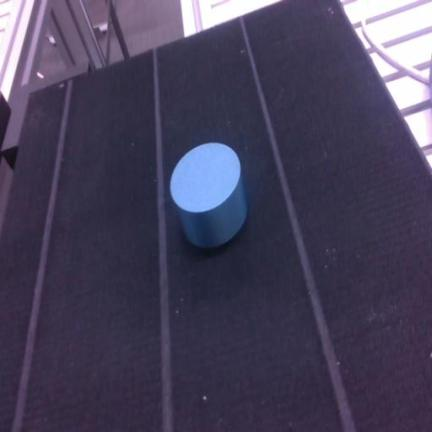cylinder: (171, 144, 247, 248)
